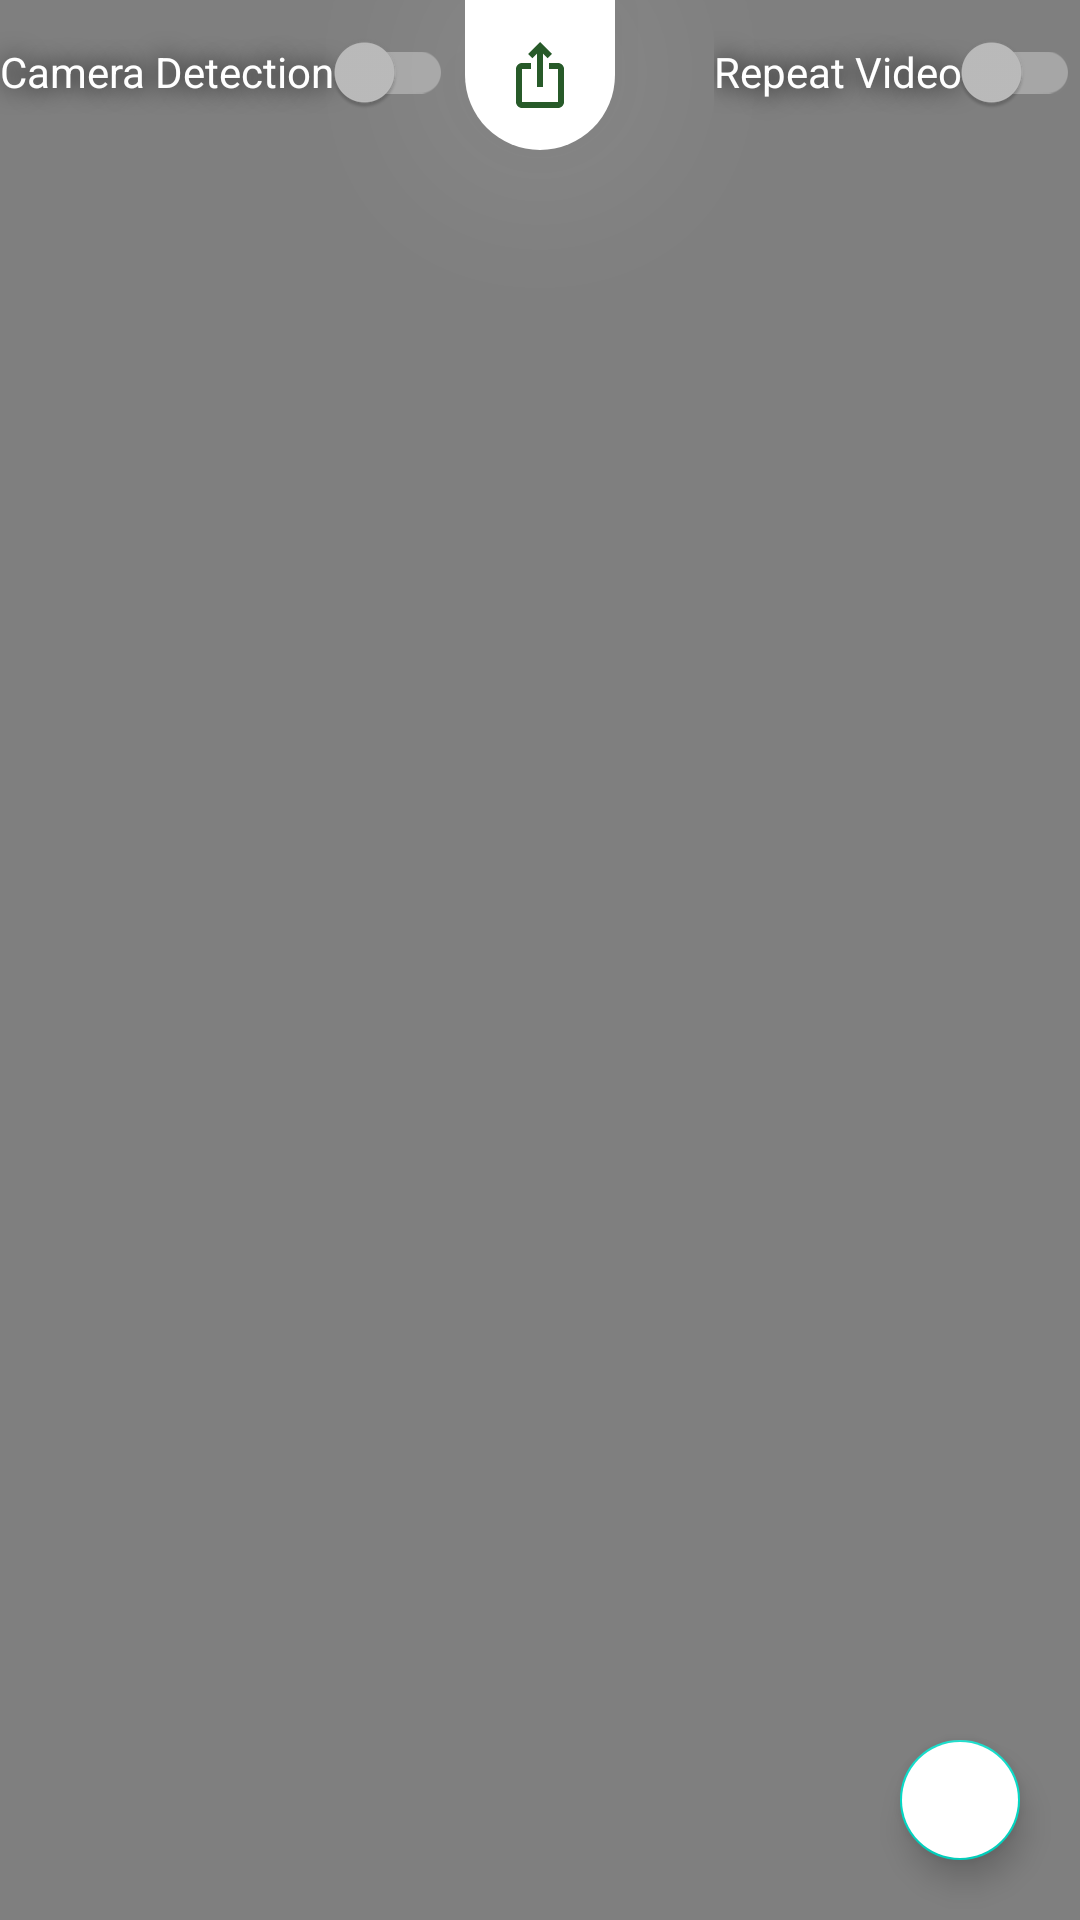

Screen size 1080*1920. Icon name, then its box in pixels as (x1, y1, x2, y2):
share: (465, 0, 615, 150)
